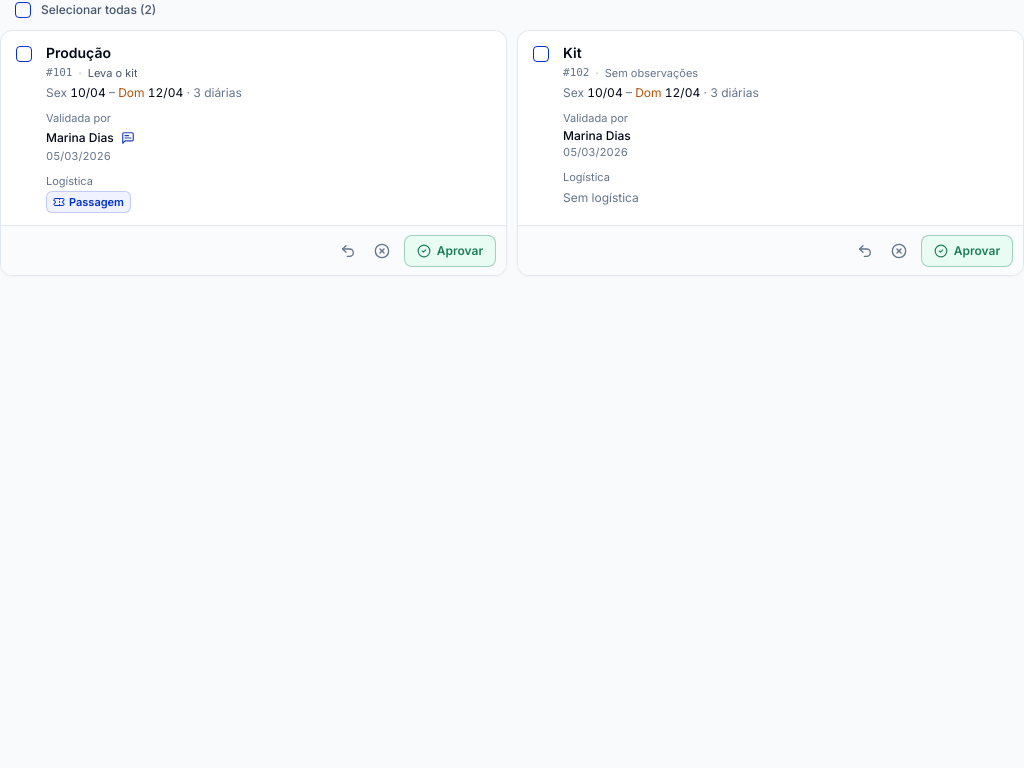
Test: AwaitingApproval › falha do servidor mantém o diálogo aberto com o comentário preservado; 409 (vaga mudou) fecha
This screenshot has width=1024, height=768.
Click the button named "Reprovar a vaga #101" at (382,250), box [366, 234, 398, 266]
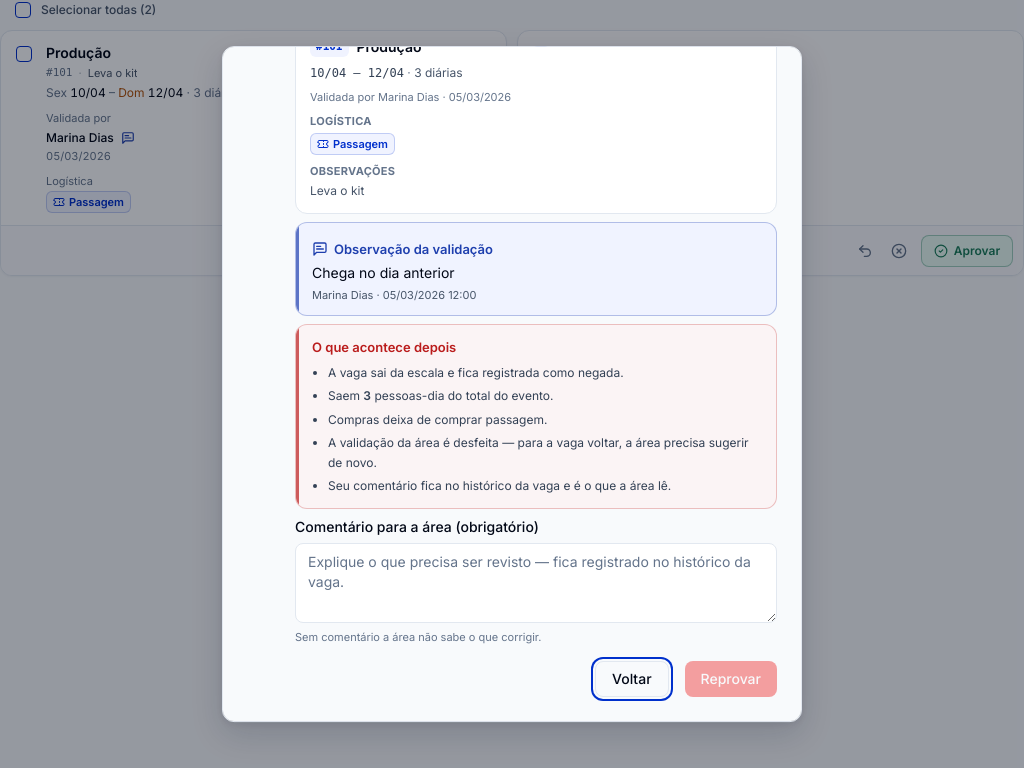
Expected: the dialog is shown, [222, 46, 802, 722]
Click the text box labelled "Comentário para a área (obrigatório)" at (536,583), box [295, 543, 777, 623]
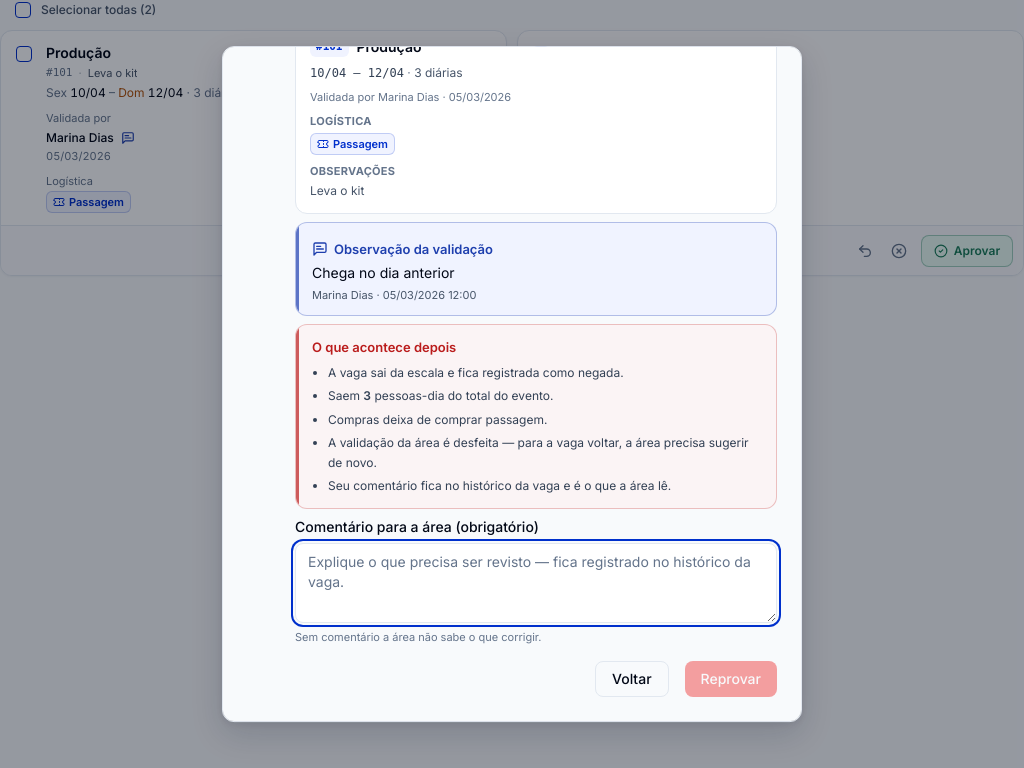
Type keys "Motivo longo"
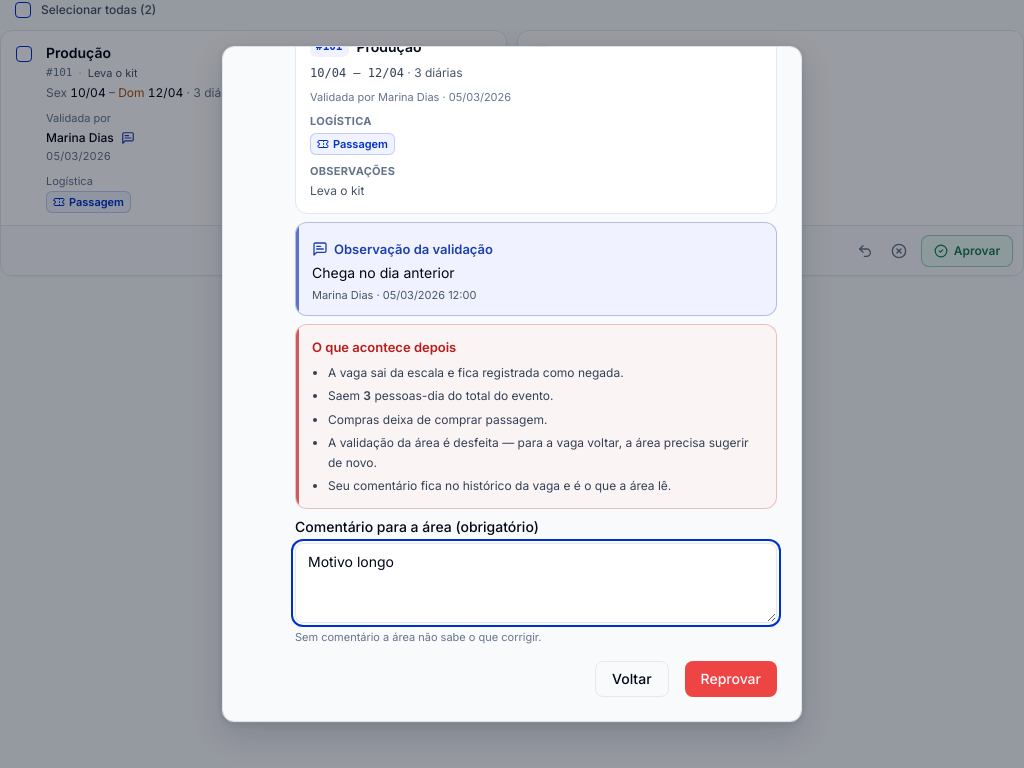
Click the button "Reprovar" at (731,679), box [685, 661, 777, 697]
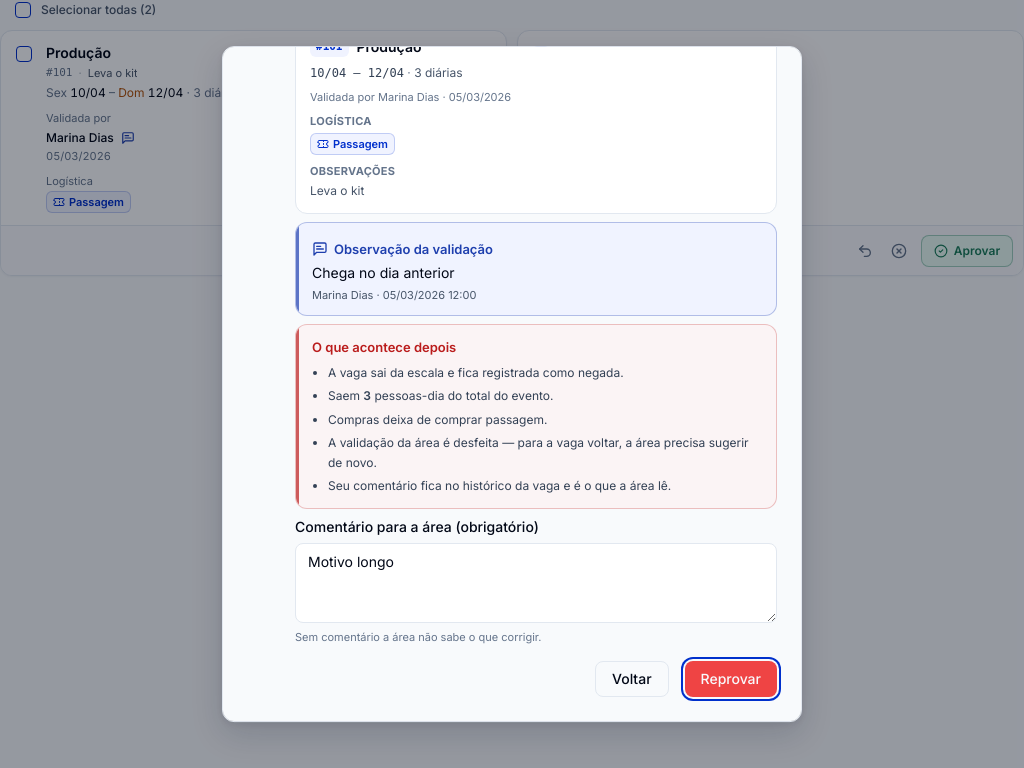
Expected: the dialog is shown, [222, 46, 802, 722]
Expected: the text box labelled "Comentário para a área (obrigatório)" holds "Motivo longo", [295, 543, 777, 623]
Click the button "Reprovar" at (731,679), box [685, 661, 777, 697]
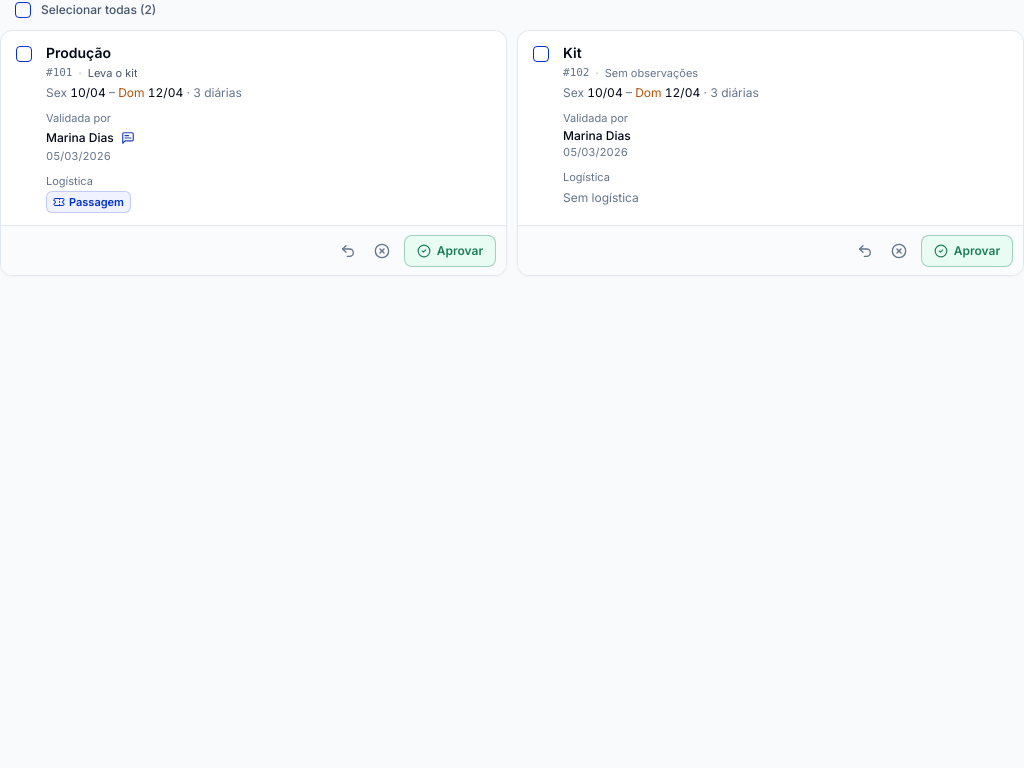
Expected: the dialog is gone
